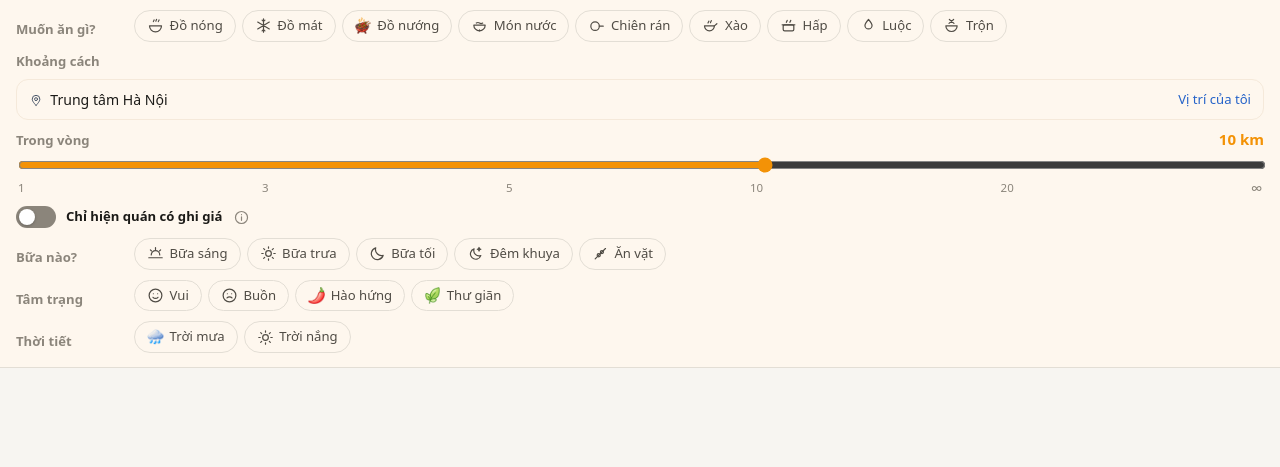
Test: DishFilters - cong tac "Chi hien quan co ghi gia" › loi giai thich THU GON nhung van la mo ta cua cong tac, mo ra duoc bang nut i
The image size is (1280, 467).
Expected: the text "Phần lớn quán trong dữ liệu" is not shown
Click the button named "Vì sao bật lên" at (241, 217), box [228,204,254,230]
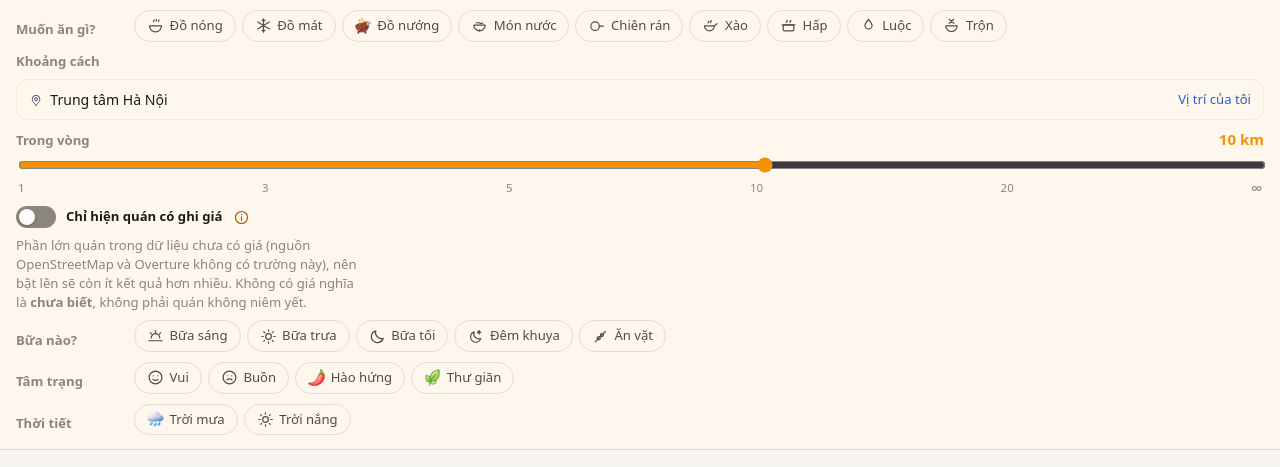
Now the button named "Vì sao bật lên" is expanded, box [228,204,254,230]
Now the text "Phần lớn quán trong dữ liệu" is shown, box [16,236,356,311]
